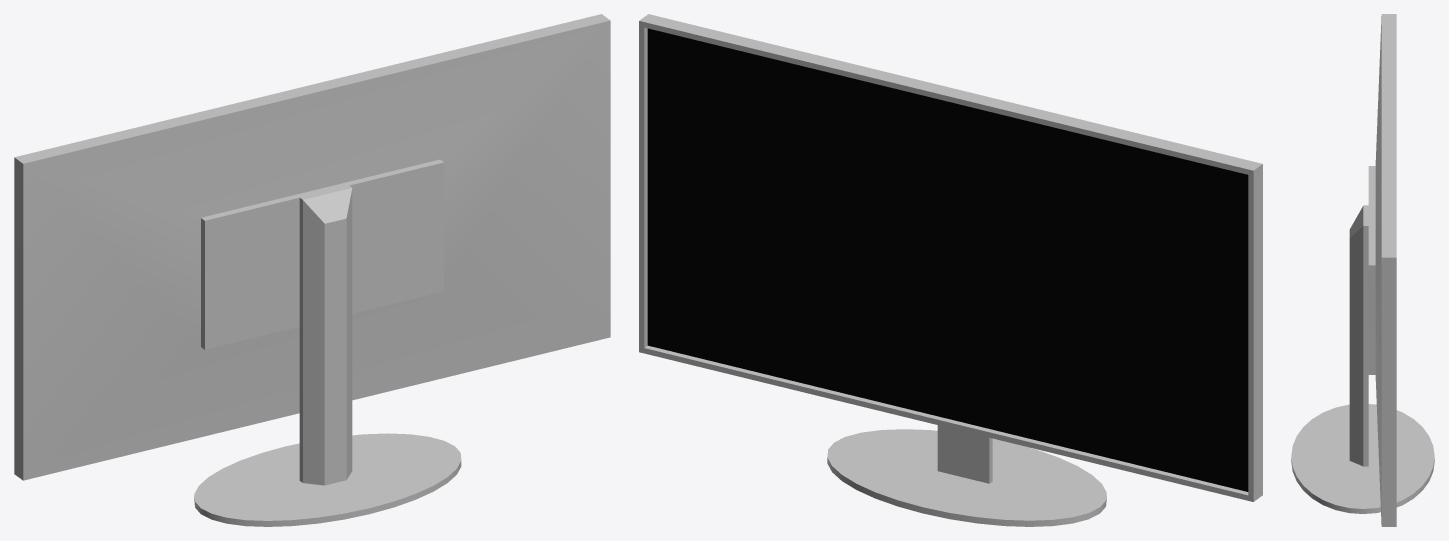
File: SM_Screen_1.FBX
The picture shows the model from 3 angles, left to right: view 1: azimuth 30°, elevation 25°; view 2: azimuth 150°, elevation 25°; view 3: azimuth 270°, elevation 25°; orthographic projection. The views are drawn at different scales.
Visible parts, largest first — view 1: SM_Screen_1_LOD0; view 2: SM_Screen_1_LOD0; view 3: SM_Screen_1_LOD0.
Boxes of the visible parts, x1=… form: SM_Screen_1_LOD0: x1=14, y1=14, x2=610, y2=526; SM_Screen_1_LOD0: x1=639, y1=14, x2=1262, y2=526; SM_Screen_1_LOD0: x1=1291, y1=14, x2=1434, y2=526.
Size of the model in its own units: 92.28 by 22.96 by 57.5.
